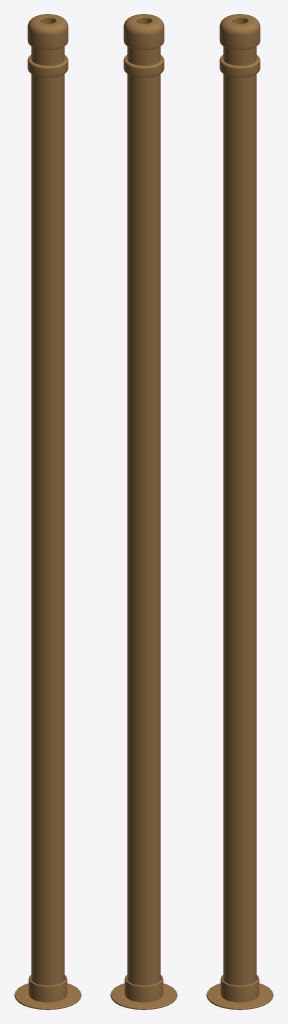
Rendered from original-5.obj.
3 views of the same model, side by side, from view 1: azimuth 90°, elevation 25°; view 2: azimuth 150°, elevation 25°; view 3: azimuth 270°, elevation 25° (orthographic).
Visible parts, largest first — view 1: mesh3/mesh3-geometry#mesh3-geometry; view 2: mesh3/mesh3-geometry#mesh3-geometry; view 3: mesh3/mesh3-geometry#mesh3-geometry.
Boxes of the visible parts, bbox=[...] form: mesh3/mesh3-geometry#mesh3-geometry: bbox=[14, 14, 81, 1009]; mesh3/mesh3-geometry#mesh3-geometry: bbox=[110, 14, 177, 1009]; mesh3/mesh3-geometry#mesh3-geometry: bbox=[206, 14, 273, 1009].
Size of the model in its own units: 0.0766 by 1.23 by 0.0766.
